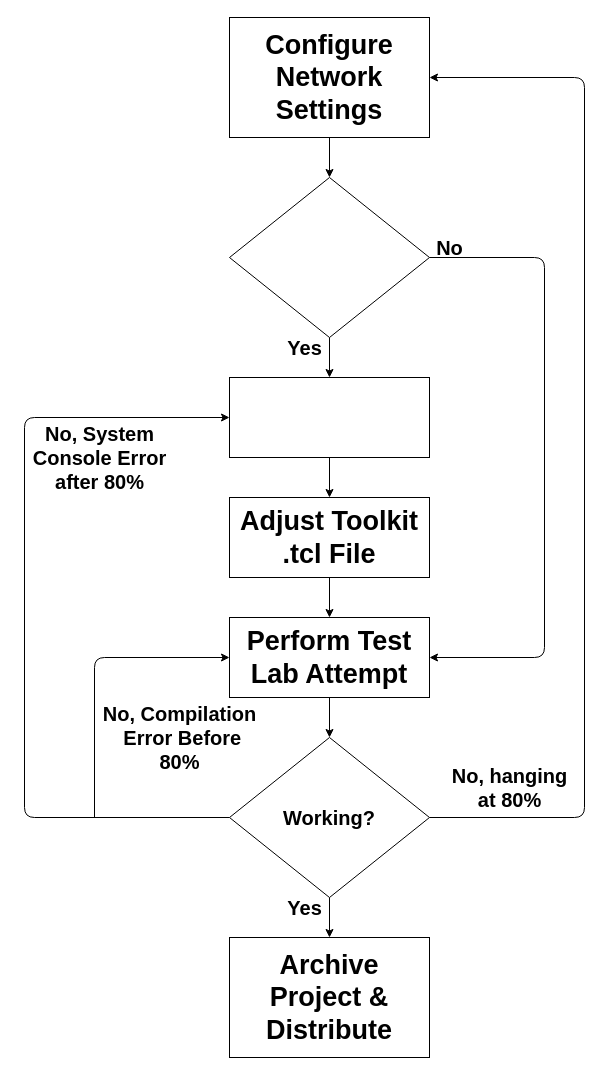
Image size: 610x1075. Some labels were removed from this diagram. Here are the shapes that lost their labels. From the top down, the centre of each, then its label:
(x=329, y=257): Adding New Peripheral?
(x=329, y=417): Adjust Pin IP
